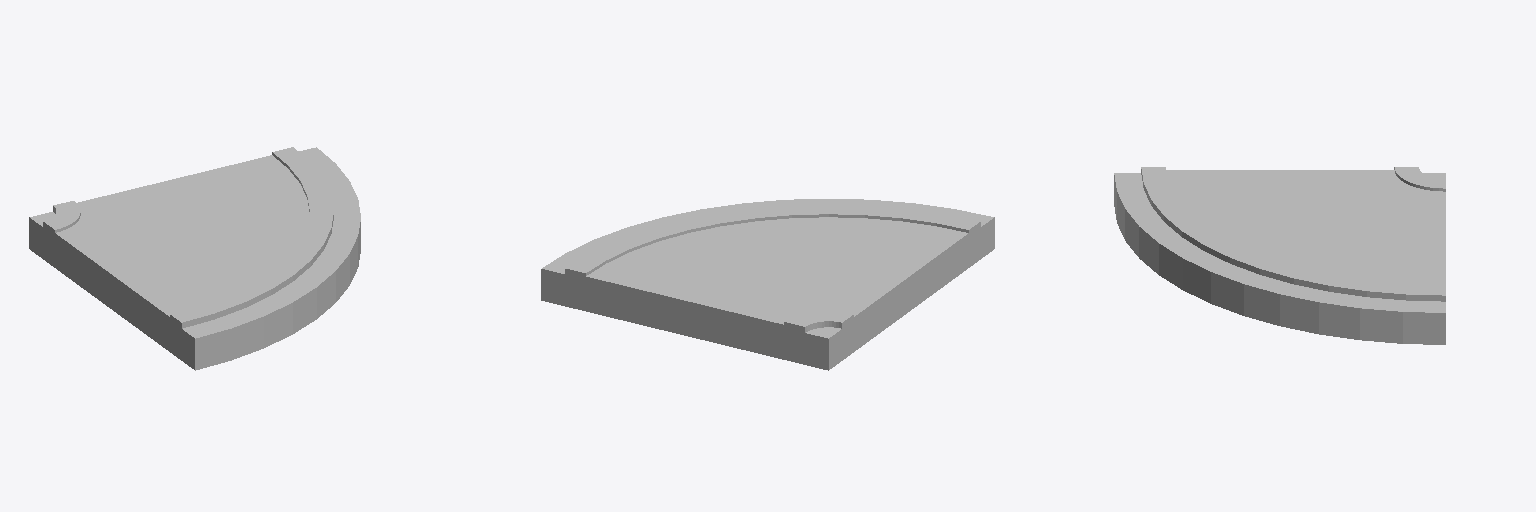
The model's file is roadCornerBridgeSmall.obj.
3 views of the same model, side by side, from view 1: azimuth 30°, elevation 25°; view 2: azimuth 150°, elevation 25°; view 3: azimuth 270°, elevation 25° (orthographic).
Parts seen in each view (by area): view 1: roadCornerBridgeSmall; view 2: roadCornerBridgeSmall; view 3: roadCornerBridgeSmall.
Part boxes in pixels (x1,y1,x2,y2): roadCornerBridgeSmall: (29,147,360,370); roadCornerBridgeSmall: (541,199,994,370); roadCornerBridgeSmall: (1114,167,1445,344).
Size of the model in its own units: 1 by 0.1266 by 1.